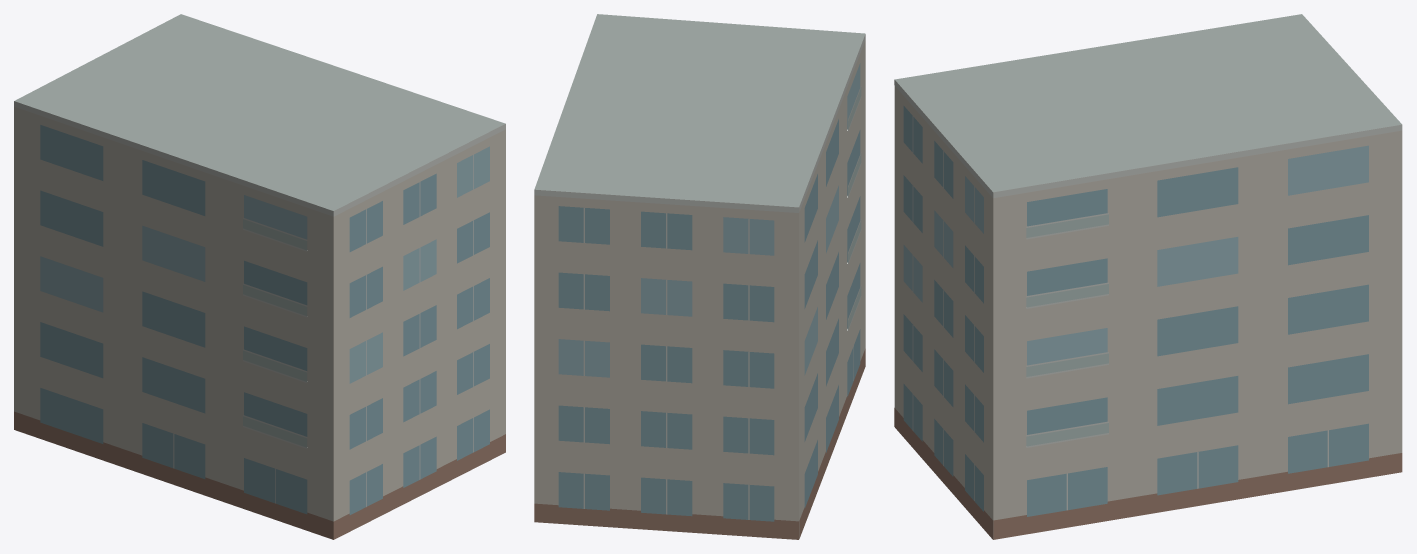
Rendered from survey-upis-32843977.glb.
3 views of the same model, side by side, from view 1: azimuth 30°, elevation 25°; view 2: azimuth 150°, elevation 25°; view 3: azimuth 270°, elevation 25° (orthographic). The views are drawn at different scales.
Visible parts, largest first — view 1: survey-upis-32843977.tmp; view 2: survey-upis-32843977.tmp; view 3: survey-upis-32843977.tmp.
Boxes of the visible parts, x1,y1,x2,y2 form: survey-upis-32843977.tmp: [14, 14, 505, 539]; survey-upis-32843977.tmp: [534, 14, 865, 539]; survey-upis-32843977.tmp: [894, 14, 1402, 539].
Bounding box in the file's own units: 15.69 × 14.25 × 18.88.
